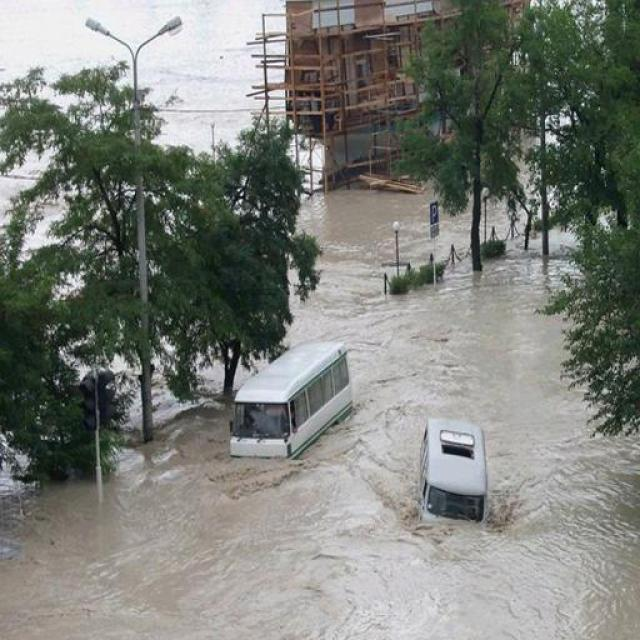puddle: (8, 487, 427, 640), (358, 517, 640, 640), (494, 417, 640, 640), (363, 295, 600, 431), (300, 193, 414, 349)
